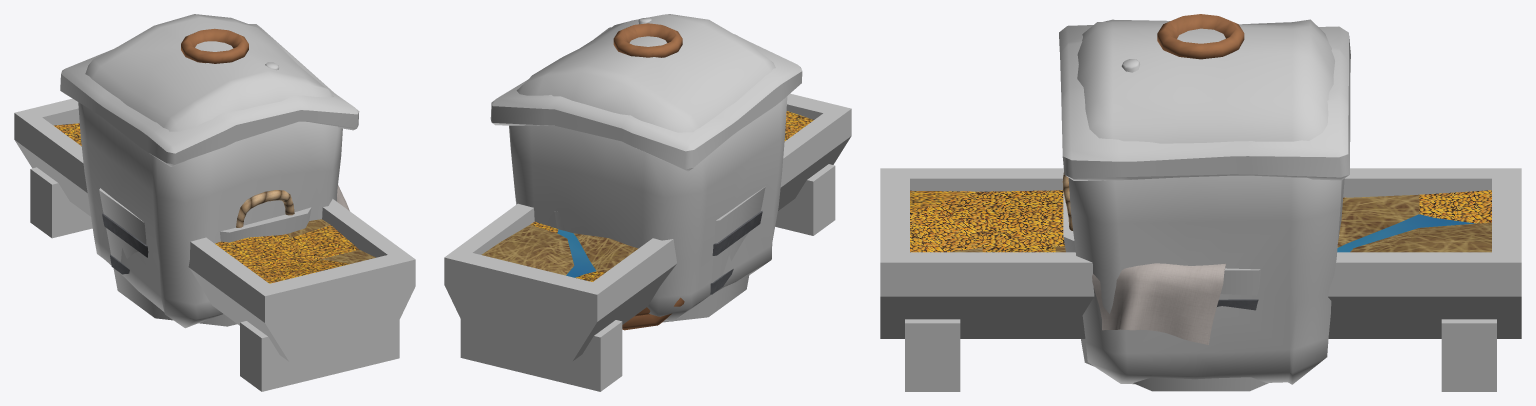
The model's file is containers.fbx.
3 renders of one model, left to right at view 1: azimuth 30°, elevation 25°; view 2: azimuth 150°, elevation 25°; view 3: azimuth 270°, elevation 25°, orthographic. The views are drawn at different scales.
Visible parts, largest first — view 1: basketL, trough.002, trough, LOD_0123_Tub_Water, LOD_0123_Tub_Milk, pot.001, trough.001; view 2: basketL, trough.002, trough, trough.001, LOD_0123_Tub_Water, pot.001, lid; view 3: basketL, trough.002, trough, LOD_0123_Tub_Water, trough.001, LOD_0123_Tub_Milk, pot.001.
Boxes of the visible parts, <box> form: basketL: <box>60,14,359,328</box>; trough.002: <box>14,98,415,391</box>; trough: <box>14,99,401,355</box>; LOD_0123_Tub_Water: <box>99,185,349,317</box>; LOD_0123_Tub_Milk: <box>99,188,311,326</box>; pot.001: <box>181,28,248,63</box>; trough.001: <box>286,219,375,263</box>; basketL: <box>490,14,802,321</box>; trough.002: <box>444,93,851,391</box>; trough: <box>444,94,851,390</box>; trough.001: <box>481,224,638,275</box>; LOD_0123_Tub_Water: <box>554,187,765,322</box>; pot.001: <box>613,23,682,57</box>; lid: <box>622,297,684,330</box>; basketL: <box>1059,19,1350,384</box>; trough.002: <box>880,168,1521,365</box>; trough: <box>880,168,1521,391</box>; LOD_0123_Tub_Water: <box>1063,177,1339,390</box>; trough.001: <box>950,194,1491,252</box>; LOD_0123_Tub_Milk: <box>1062,172,1260,391</box>; pot.001: <box>1157,14,1244,59</box>.
Size of the model in its own units: 263 by 145 by 126.
